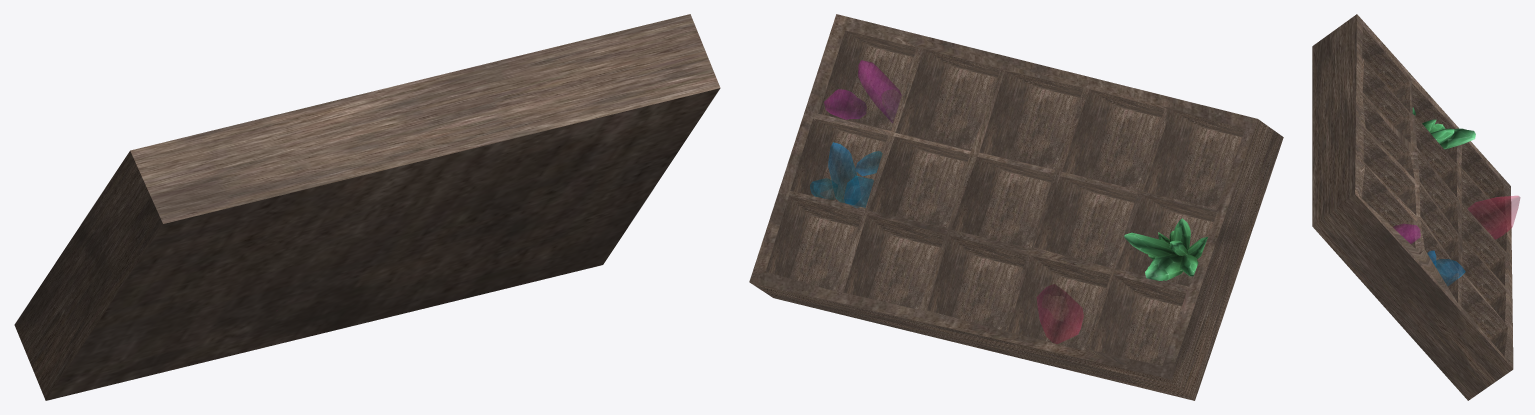
File: ingridient_box.glb
The picture shows the model from 3 angles, left to right: view 1: azimuth 30°, elevation 25°; view 2: azimuth 150°, elevation 25°; view 3: azimuth 270°, elevation 25°; orthographic projection. The views are drawn at different scales.
Parts seen in each view (by area): view 1: Caja_de_ingredientes; view 2: Caja_de_ingredientes, Gema_verde_caja_ingredientes, Gema_azul_caja_ingredientes, Gema_violeta_caja_ingredientes, Gema_roja_caja_ingredientes; view 3: Caja_de_ingredientes, Gema_roja_caja_ingredientes, Gema_verde_caja_ingredientes, Gema_azul_caja_ingredientes, Gema_violeta_caja_ingredientes.
Part boxes in pixels (x1,y1,x2,y2): Caja_de_ingredientes: (14, 14, 720, 400); Caja_de_ingredientes: (749, 14, 1283, 400); Gema_verde_caja_ingredientes: (1124, 218, 1207, 280); Gema_azul_caja_ingredientes: (810, 142, 882, 207); Gema_violeta_caja_ingredientes: (824, 60, 901, 122); Gema_roja_caja_ingredientes: (1037, 284, 1083, 343); Caja_de_ingredientes: (1312, 14, 1513, 400); Gema_roja_caja_ingredientes: (1468, 196, 1520, 239); Gema_verde_caja_ingredientes: (1412, 107, 1475, 149); Gema_azul_caja_ingredientes: (1427, 251, 1465, 285); Gema_violeta_caja_ingredientes: (1393, 224, 1420, 243).
Bounding box in the file's own units: 0.6246 × 0.3338 × 0.3033.
Materials: 5 (5 with a texture image).
